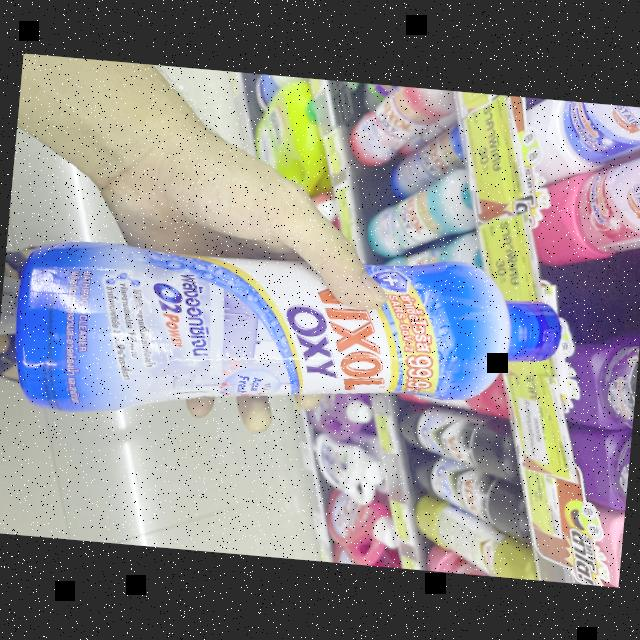chemical_plastic_bottle: (2, 214, 573, 461)
